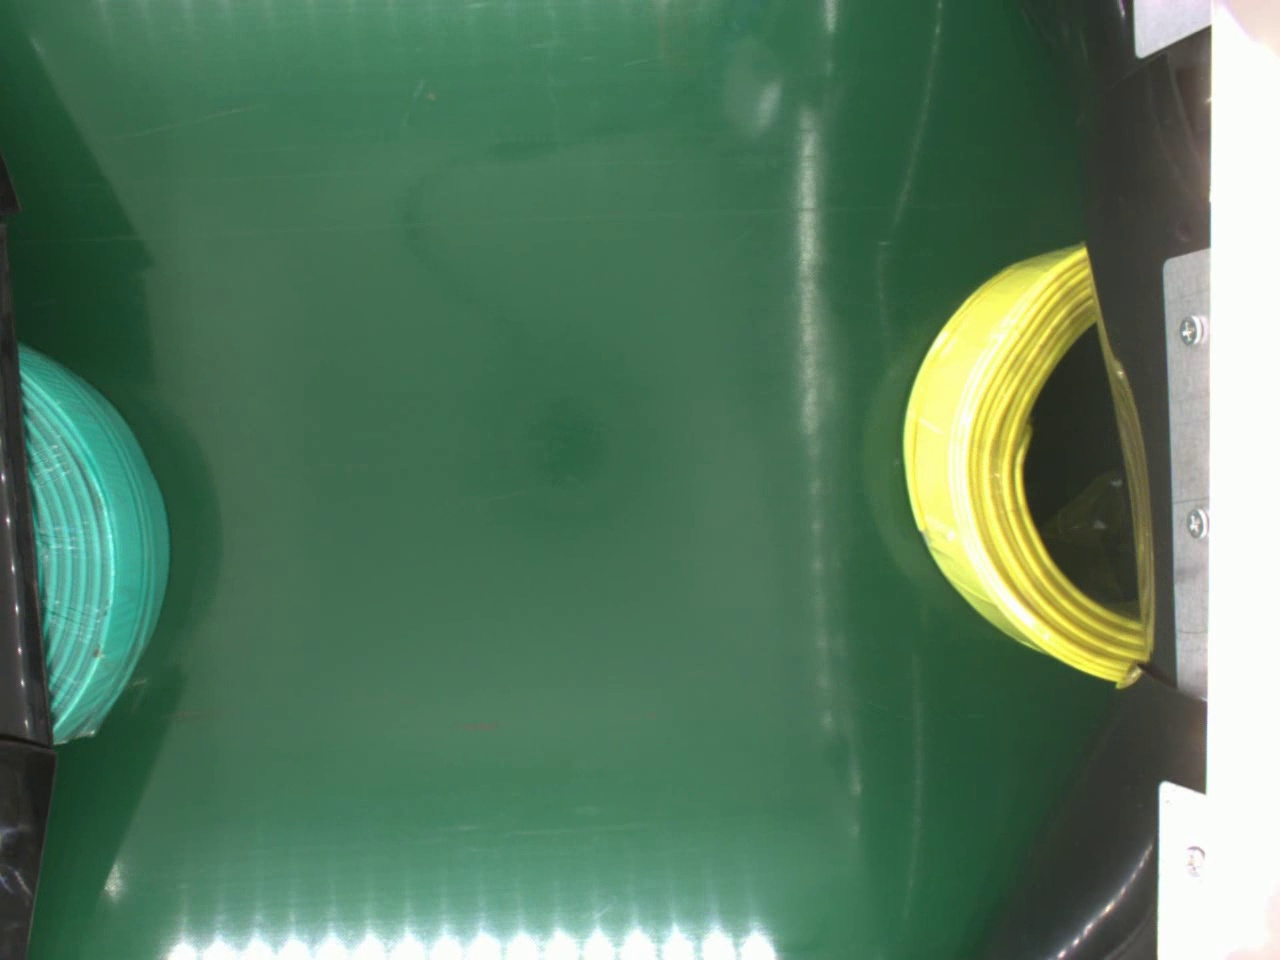green: (13, 339, 167, 750)
yellow: (898, 239, 1150, 686)
